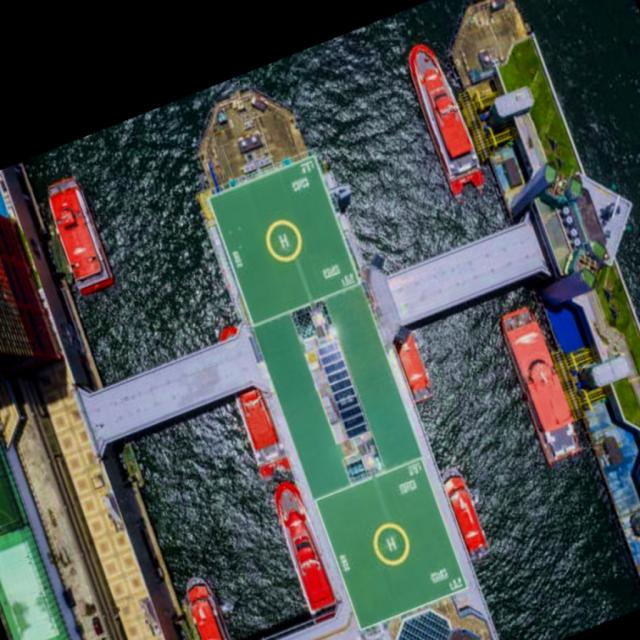helipad: (370, 521, 411, 566), (263, 217, 303, 263)
